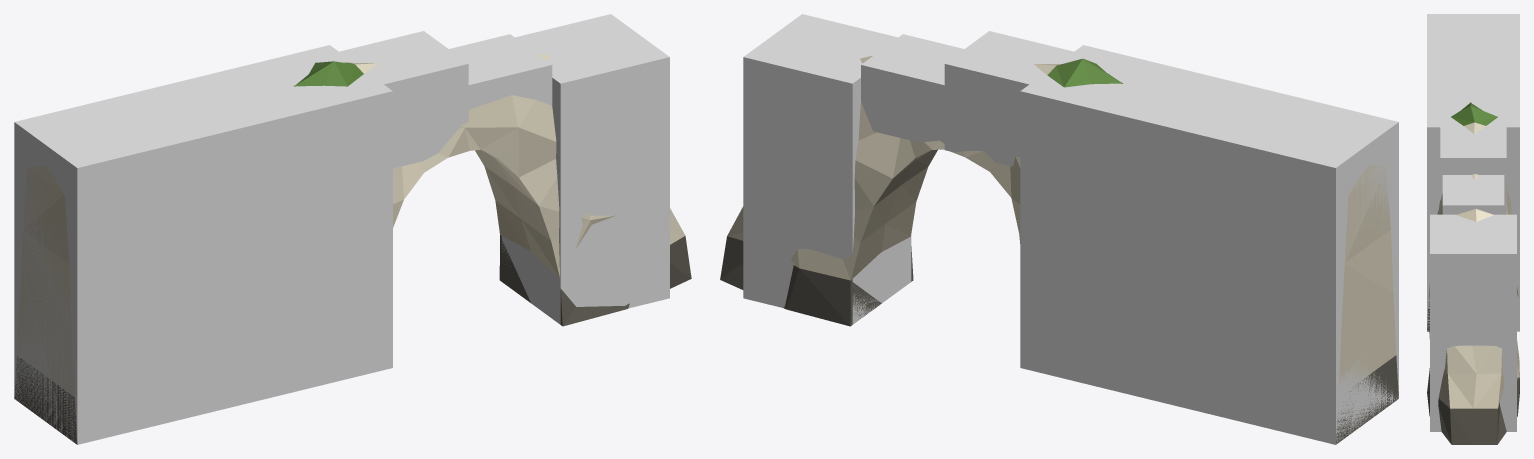
File: door.glb
3 views of the same model, side by side, from view 1: azimuth 30°, elevation 25°; view 2: azimuth 150°, elevation 25°; view 3: azimuth 270°, elevation 25° (orthographic). The views are drawn at different scales.
Visible parts, largest first — view 1: solid_ridge, solid_leg, door, solid_top_1, solid_top_2; view 2: solid_ridge, solid_leg, door, solid_top_1, solid_top_2; view 3: solid_leg, solid_ridge, door, solid_top_1, solid_top_2.
Boxes of the visible parts, x1,y1,x2,y2 form: solid_ridge: [14, 45, 392, 444]; solid_leg: [501, 14, 669, 324]; door: [14, 53, 691, 444]; solid_top_1: [339, 31, 468, 168]; solid_top_2: [449, 34, 552, 109]; solid_ridge: [1020, 45, 1398, 444]; solid_leg: [743, 14, 911, 324]; door: [720, 55, 1398, 444]; solid_top_1: [944, 31, 1073, 166]; solid_top_2: [861, 34, 963, 143]; solid_leg: [1430, 214, 1516, 431]; solid_ridge: [1427, 14, 1519, 331]; door: [1427, 102, 1519, 444]; solid_top_1: [1440, 127, 1506, 214]; solid_top_2: [1442, 175, 1504, 214].
Size of the model in its own units: 260 by 115 by 45.
